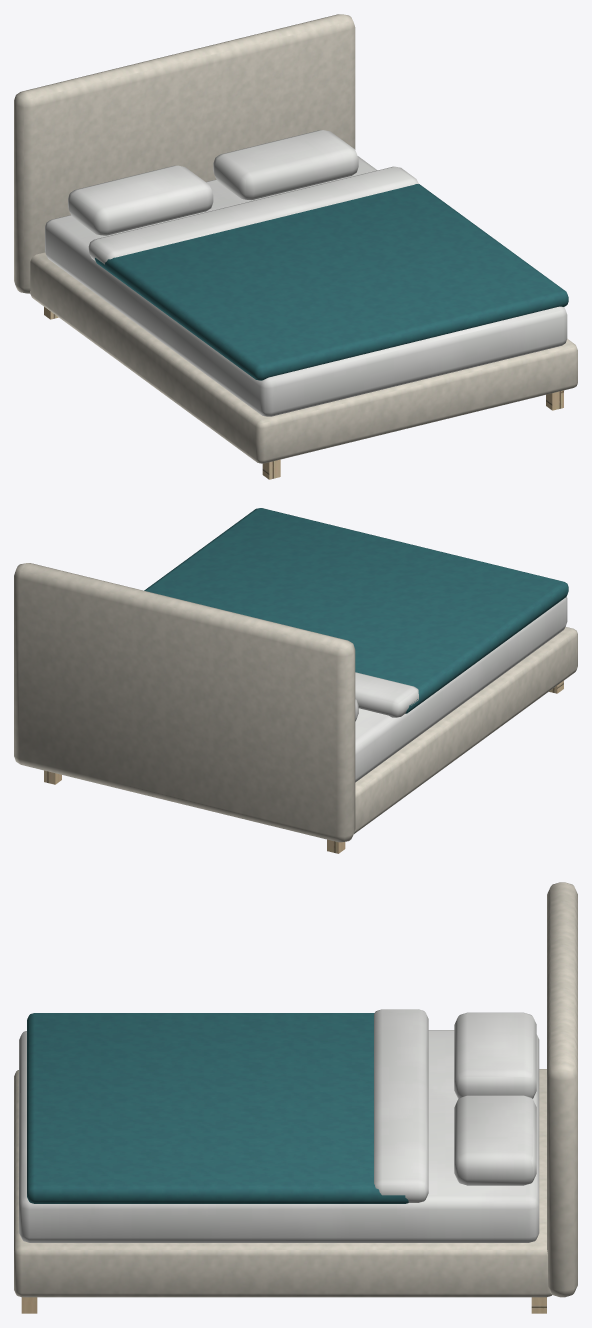
The picture shows the model from 3 angles, top to bottom: view 1: azimuth 30°, elevation 25°; view 2: azimuth 150°, elevation 25°; view 3: azimuth 270°, elevation 25°; orthographic projection. The views are drawn at different scales.
Parts seen in each view (by area): view 1: Decor_bed_double; view 2: Decor_bed_double; view 3: Decor_bed_double.
Part boxes in pixels (bbox=[...]): Decor_bed_double: bbox=[14, 14, 577, 479]; Decor_bed_double: bbox=[14, 508, 577, 853]; Decor_bed_double: bbox=[14, 882, 577, 1313].
Size of the model in its own units: 1.76 by 1.1 by 2.19.
4 materials, 4 textured.
